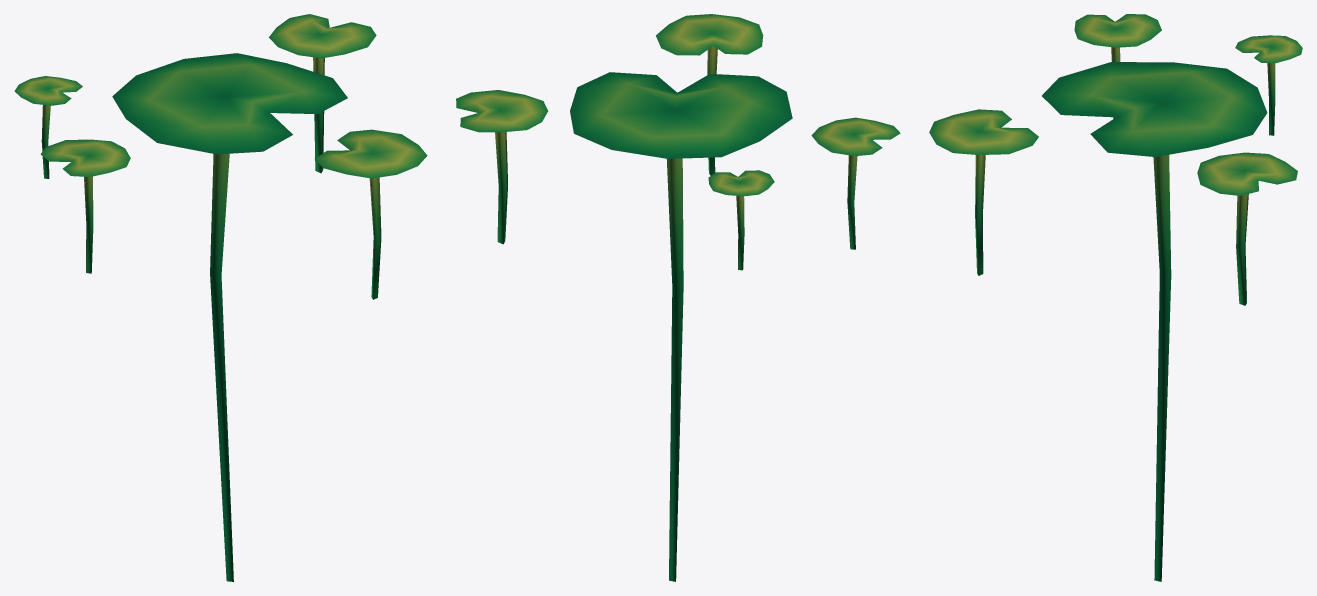
File: Water_Plant_2D.fbx
3 renders of one model, left to right at view 1: azimuth 30°, elevation 25°; view 2: azimuth 150°, elevation 25°; view 3: azimuth 270°, elevation 25°, orthographic. The views are drawn at different scales.
Visible parts, largest first — view 1: Water_Plant_2D; view 2: Water_Plant_2D; view 3: Water_Plant_2D.
Boxes of the visible parts, left/top/right/bottom form: Water_Plant_2D: left=14, top=14, right=427, bottom=581; Water_Plant_2D: left=456, top=14, right=900, bottom=581; Water_Plant_2D: left=929, top=14, right=1302, bottom=581.
Bounding box in the file's own units: 119 × 146 × 104.
